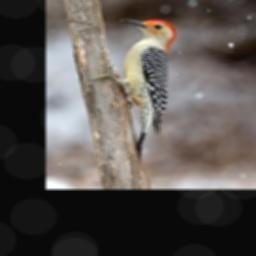Woodpecker: (88, 18, 176, 160)
